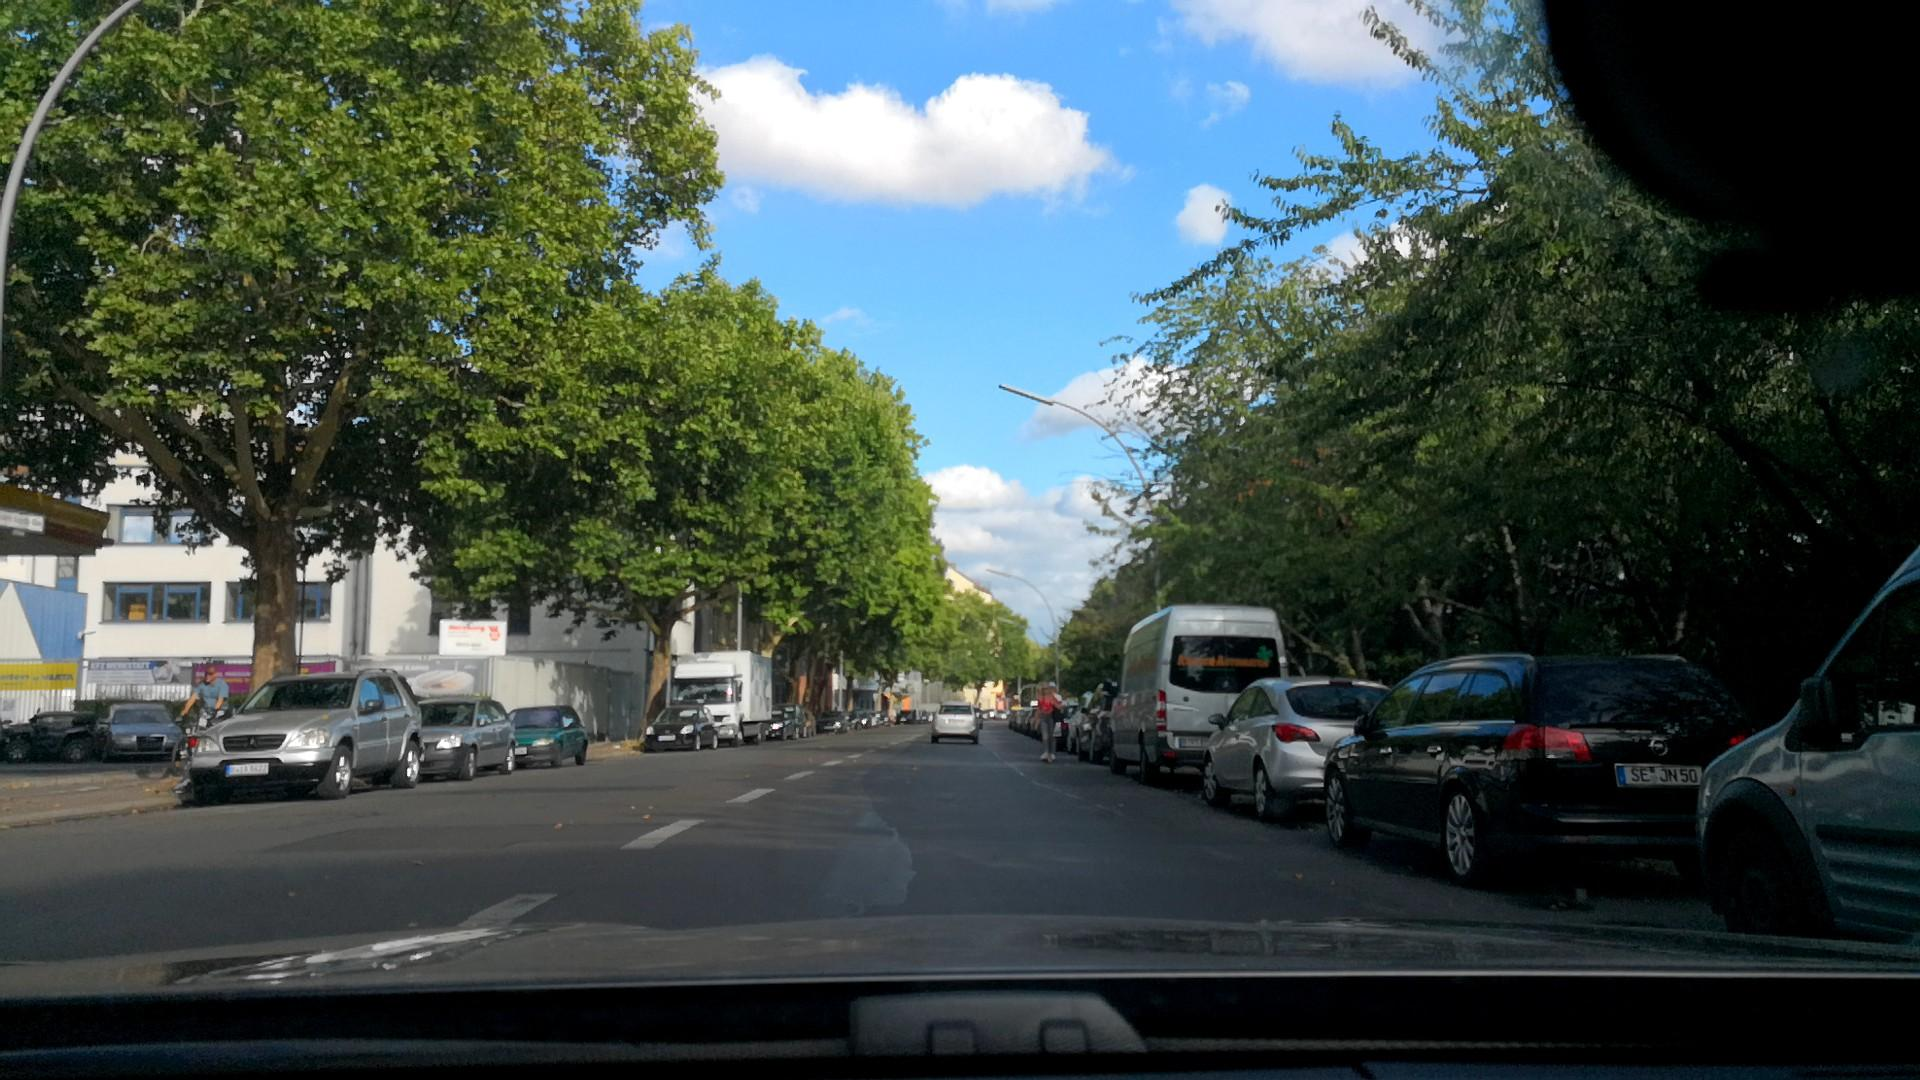Human face: (202, 663, 216, 683), (1041, 685, 1049, 696)
Vehicle registration plate: (1613, 763, 1701, 788), (225, 763, 268, 776), (1179, 737, 1209, 748)
